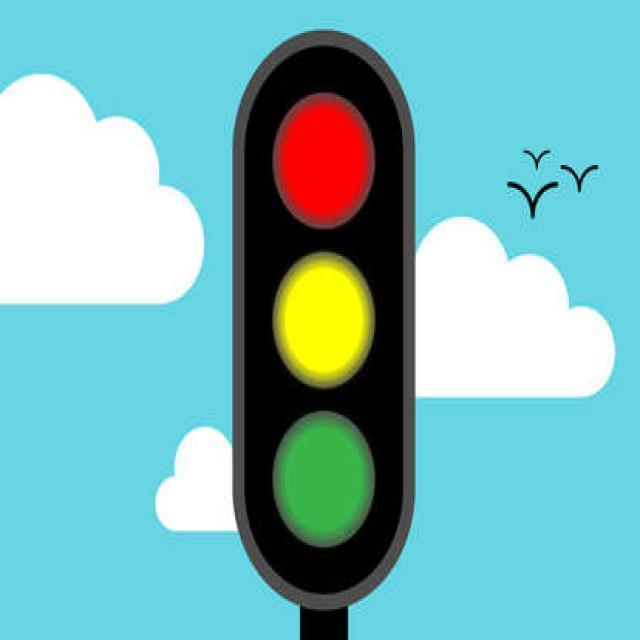yellow_light: (232, 32, 412, 608)
